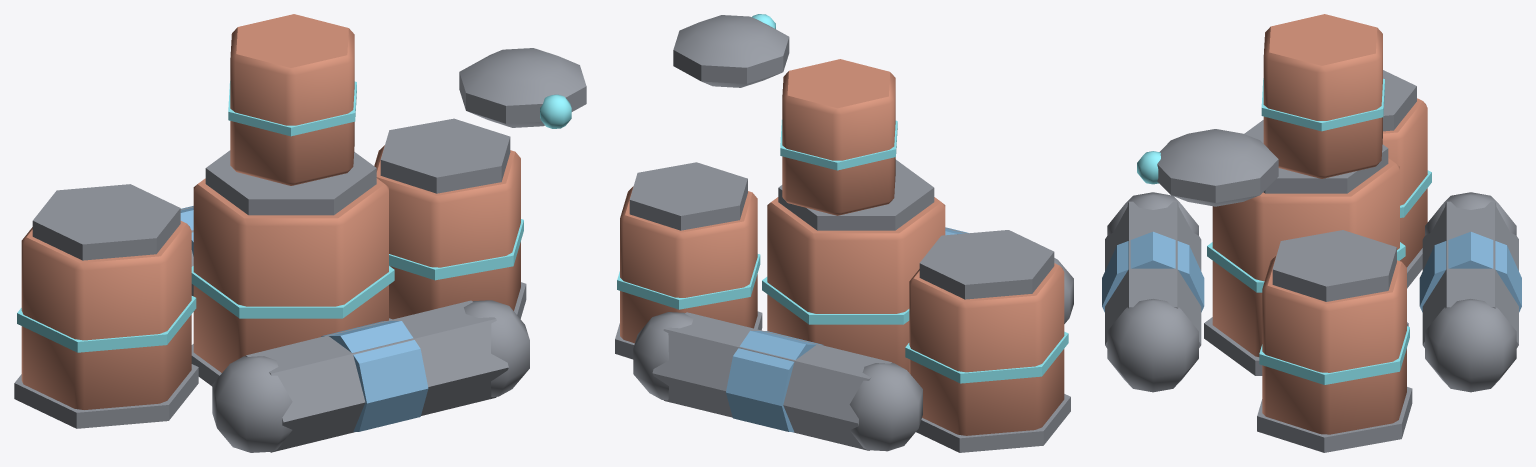
The model's file is CalleCajas.fbx.
3 renders of one model, left to right at view 1: azimuth 30°, elevation 25°; view 2: azimuth 150°, elevation 25°; view 3: azimuth 270°, elevation 25°, orthographic. The views are drawn at different scales.
Visible parts, largest first — view 1: CalleCajas_Base_Cuerpo, CalleCajas_Base_Metal, CalleCajas_Base_Luz, CalleCajas_Base_Cristal; view 2: CalleCajas_Base_Cuerpo, CalleCajas_Base_Metal, CalleCajas_Base_Luz, CalleCajas_Base_Cristal; view 3: CalleCajas_Base_Cuerpo, CalleCajas_Base_Metal, CalleCajas_Base_Cristal, CalleCajas_Base_Luz.
Part boxes in pixels (x1,y1,x2,y2): CalleCajas_Base_Cuerpo: (21, 14, 520, 409); CalleCajas_Base_Metal: (14, 48, 586, 452); CalleCajas_Base_Luz: (17, 81, 571, 352); CalleCajas_Base_Cristal: (180, 206, 428, 431); CalleCajas_Base_Cuerpo: (620, 59, 1064, 435); CalleCajas_Base_Metal: (615, 15, 1073, 452); CalleCajas_Base_Luz: (617, 14, 1068, 383); CalleCajas_Base_Cristal: (726, 227, 969, 432); CalleCajas_Base_Cuerpo: (1212, 14, 1427, 434); CalleCajas_Base_Metal: (1105, 70, 1518, 452); CalleCajas_Base_Cristal: (1102, 231, 1521, 312); CalleCajas_Base_Luz: (1137, 78, 1431, 384).
Size of the model in its own units: 948 by 590 by 740.
